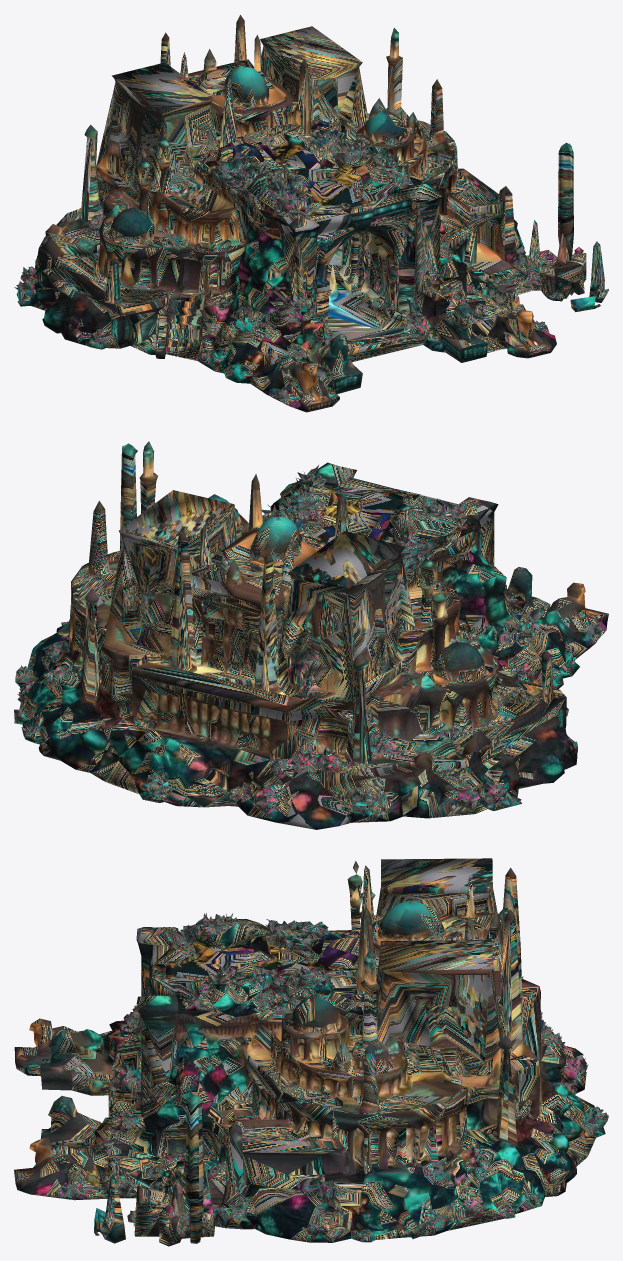
File: Luminous_Coral_Citade.glb
3 renders of one model, top to bottom at view 1: azimuth 30°, elevation 25°; view 2: azimuth 150°, elevation 25°; view 3: azimuth 270°, elevation 25°, orthographic. The views are drawn at different scales.
Parts seen in each view (by area): view 1: Luminous_Coral_Citade; view 2: Luminous_Coral_Citade; view 3: Luminous_Coral_Citade.
Part boxes in pixels (x1,y1,x2,y2): Luminous_Coral_Citade: (14, 15, 608, 412); Luminous_Coral_Citade: (14, 441, 608, 829); Luminous_Coral_Citade: (14, 858, 608, 1246).
Bounding box in the file's own units: 1.9 × 0.8447 × 1.89.
Materials: 1 (1 with a texture image).
